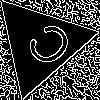C: (15, 19, 77, 77)
